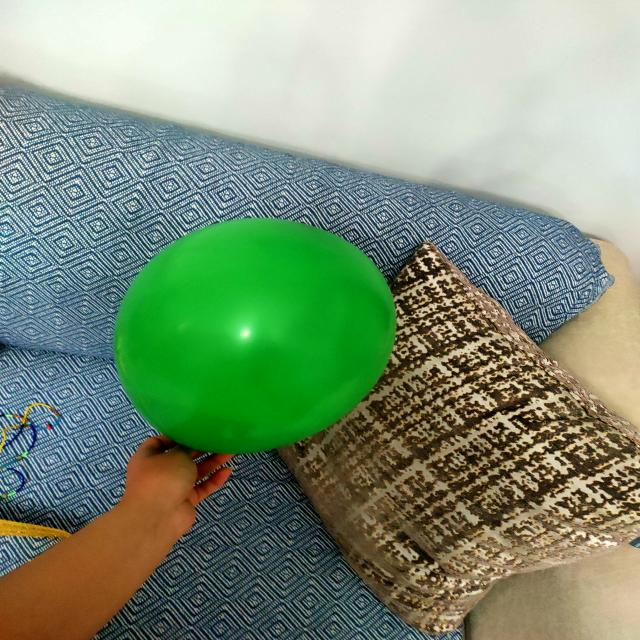green: (115, 220, 396, 456)
